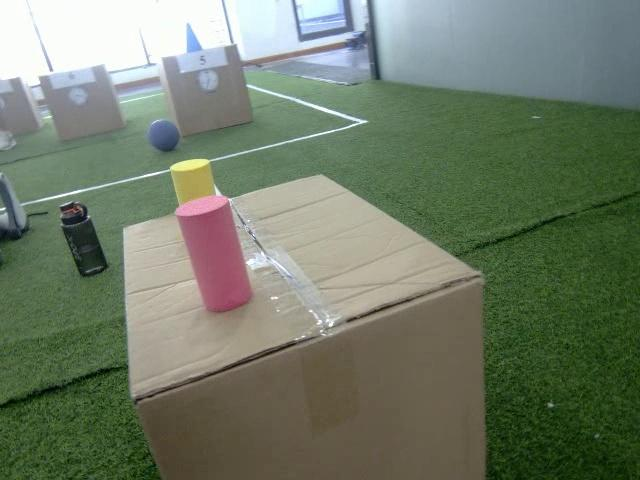red_cylinder: (175, 195, 250, 311)
yellow_cylinder: (170, 158, 214, 207)
